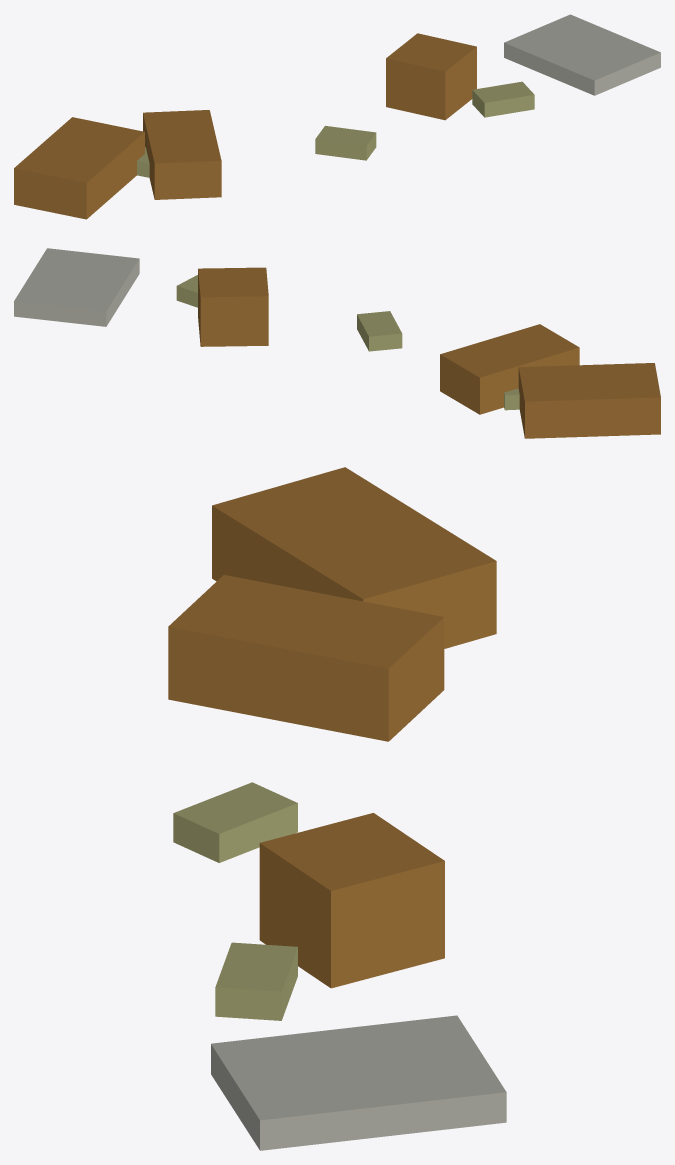
The model's file is SM_BarricadaCivil_v1_Muebles_e3_Brecha_LOD0.fbx.
3 views of the same model, one above another, from view 1: azimuth 30°, elevation 25°; view 2: azimuth 150°, elevation 25°; view 3: azimuth 270°, elevation 25° (orthographic). The views are drawn at different scales.
Parts seen in each view (by area): view 1: SM_barricada_civil_v7_LOD0; view 2: SM_barricada_civil_v7_LOD0; view 3: SM_barricada_civil_v7_LOD0.
Boxes of the visible parts, box(x1,y1,x2,y2) form: SM_barricada_civil_v7_LOD0: box(14, 14, 660, 219); SM_barricada_civil_v7_LOD0: box(14, 248, 660, 438); SM_barricada_civil_v7_LOD0: box(168, 467, 506, 1150).
Size of the model in its own units: 10.75 by 0.8 by 2.52.
